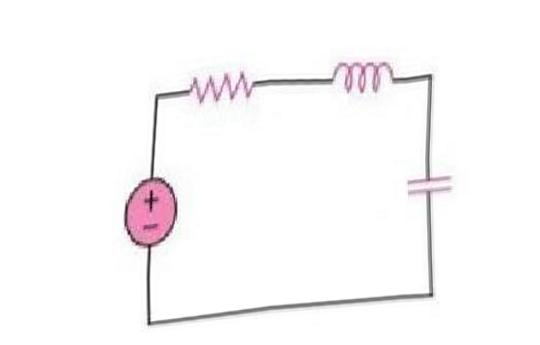Battery: (104, 161, 200, 269)
